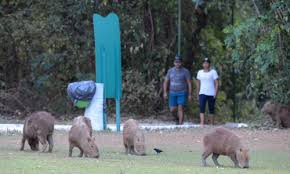capivara: (202, 126, 251, 169), (20, 111, 56, 154), (70, 115, 99, 158), (123, 118, 147, 157)
